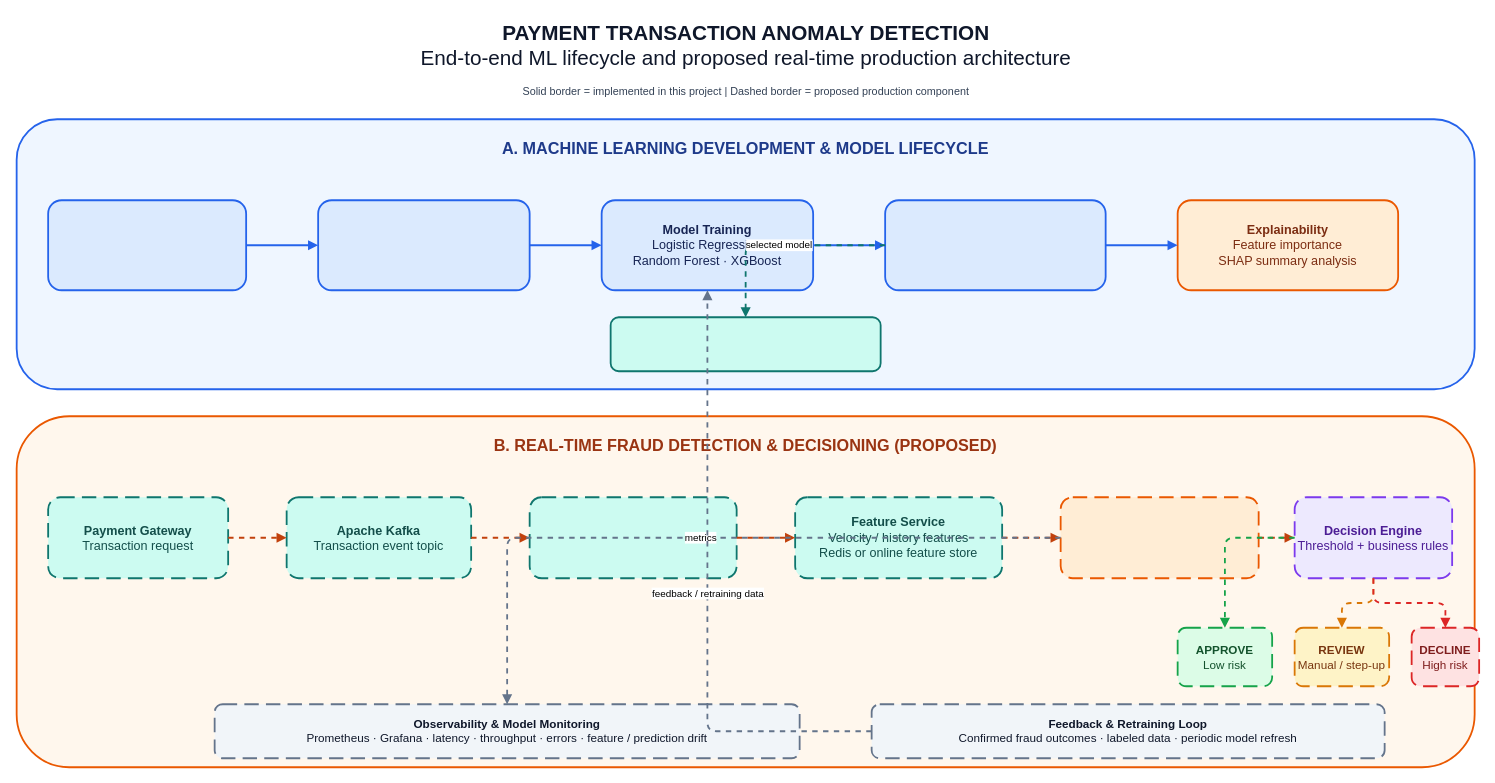
Image size: 1495x783. Some labels were removed from this diagram. The centre of each missing label's shape, as x and y in pixels:
"Data Acquisition ULB / Kaggle dataset" goes at (147,245).
"Data Preparation Deduplication · scaling Stratified train / validation / test" goes at (423,245).
"Model Evaluation Precision · Recall · F1 PR-AUC · ROC-AUC · Threshold" goes at (995,245).
"Model Serving XGBoost inference API Fraud probability score" goes at (1159,537).
"Selected Model Artifact Versioned XGBoost model · experimental threshold 0.70" goes at (745,344).
"Stream Processing Kafka Streams / Flink Validation & enrichment" goes at (632,537).
